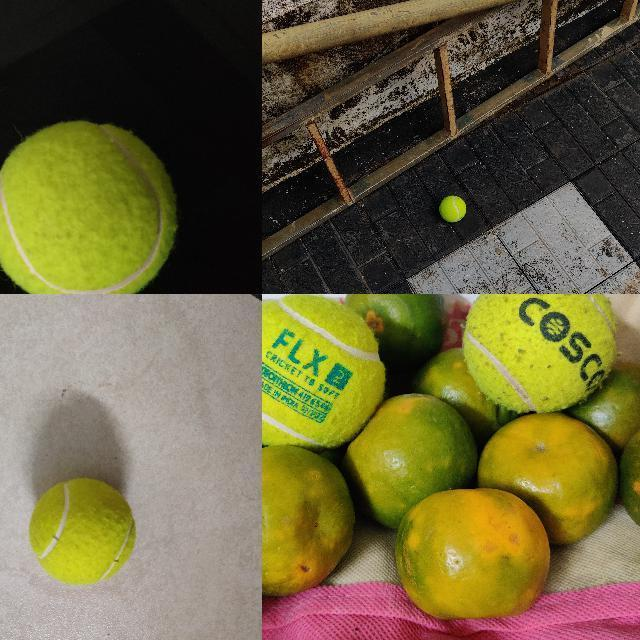tennis-ball: (0, 119, 179, 293), (461, 294, 616, 412), (262, 294, 351, 444), (29, 477, 136, 585), (438, 195, 466, 222)
